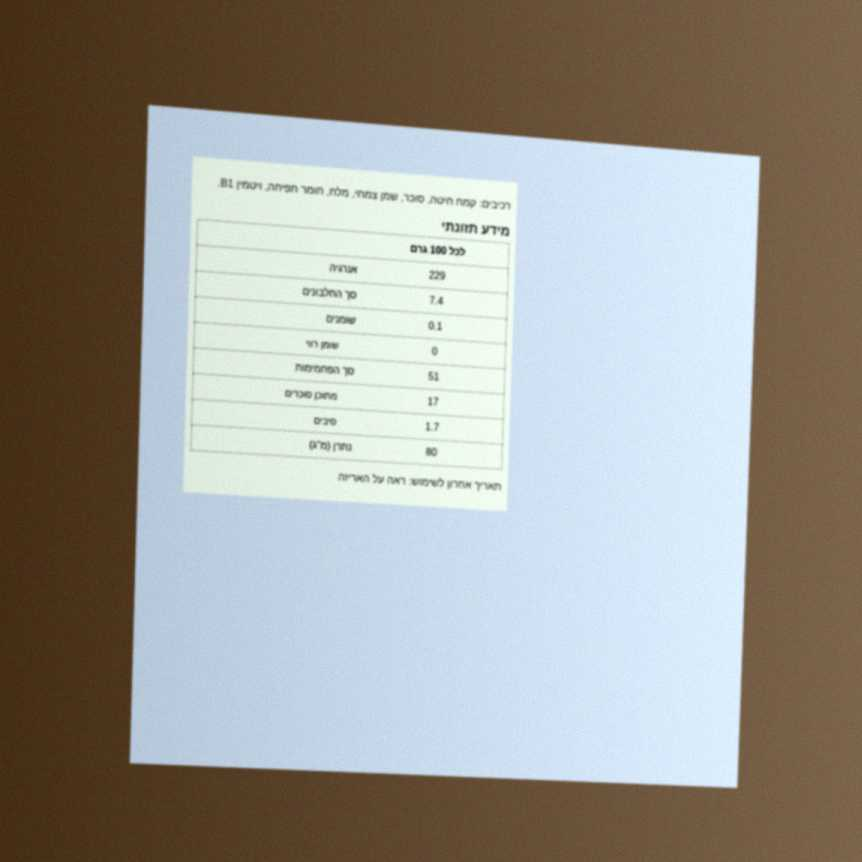carbs: (427, 369, 441, 384)
energy: (427, 268, 447, 283)
fat: (427, 319, 444, 333)
protein: (428, 293, 445, 308)
